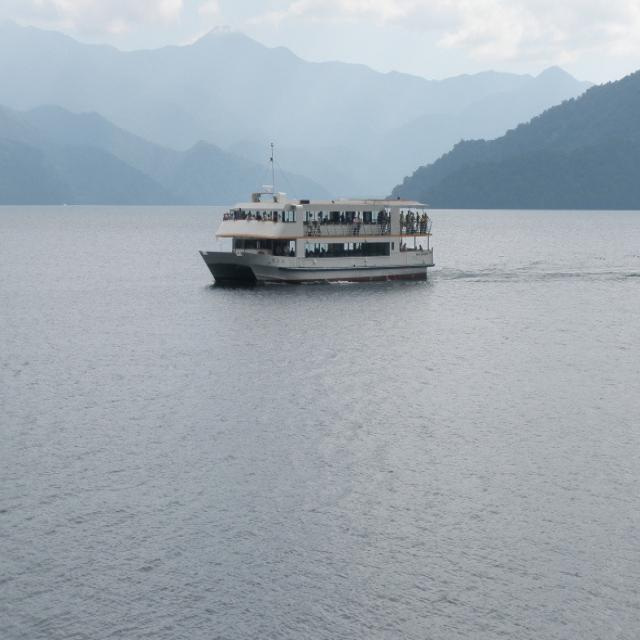passenger ship: (210, 162, 434, 289)
